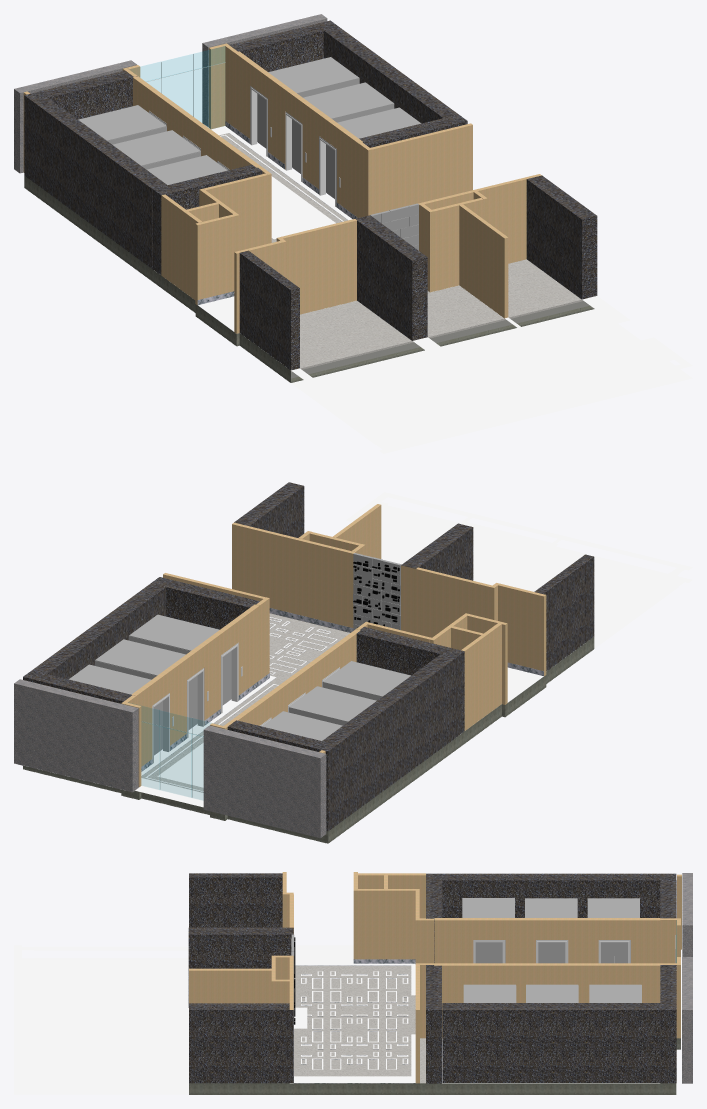
File: MGM Cotai Hotel Lift Lobby.gltf
3 views of the same model, one above another, from view 1: azimuth 30°, elevation 25°; view 2: azimuth 150°, elevation 25°; view 3: azimuth 270°, elevation 25° (orthographic). The views are drawn at different scales.
Parts seen in each view (by area): view 1: Floor plan Level 0, Floor Floors <449982 Floor-Grnd-Susp_65Scr-80Ins-100Blk-75PC, FamilyInstance Specialty Equipment Otis_Gen3_Premier_lift_13 (×6), Wall Walls <339339 Wall-Fnd_600Blk 2<, Wall Walls <352641 Wall-Fnd_200Blk 4<, Wall Walls <353166 Wall-Fnd_150Blk 5<, Wall Walls <343821 Wall-Fnd_600Blk 2<, Wall Walls <343152 Wall-Fnd_600Blk 2<, Wall Walls <437848 Wall-Fnd_150Blk 5<, Wall Walls <345370 Wall-Fnd_350Blk 2<, Wall Walls <340683 Wall-Fnd_600Blk 2<, Wall Walls <364521 Wall-Fnd_150Blk 5< (+19 smaller); view 2: Floor plan Level 0, FamilyInstance Specialty Equipment Otis_Gen3_Premier_lift_13 (×6), Wall Walls <339339 Wall-Fnd_600Blk 2<, Wall Walls <381742 Wall-Fnd_400Con_Footing 2<, Wall Walls <432224 Wall-Fnd_400Con_Footing 2<, Floor Floors <449982 Floor-Grnd-Susp_65Scr-80Ins-100Blk-75PC, Wall Walls <434053 Wall-Fnd_150Blk 5<, Wall Walls <352641 Wall-Fnd_200Blk 4<, Wall Walls <345370 Wall-Fnd_350Blk 2<, Wall Walls <340683 Wall-Fnd_600Blk 2<, Wall Walls <437848 Wall-Fnd_150Blk 5<, Wall Walls <339218 Wall-Fnd_600Blk 2< (+16 smaller); view 3: Floor plan Level 0, Floor Floors <449982 Floor-Grnd-Susp_65Scr-80Ins-100Blk-75PC, Wall Walls <340683 Wall-Fnd_600Blk 2<, FamilyInstance Specialty Equipment Otis_Gen3_Premier_lift_13 (×6), Wall Walls <343821 Wall-Fnd_600Blk 2<, Wall Walls <347849 Wall-Fnd_200Blk 4<, Wall Walls <339339 Wall-Fnd_600Blk 2<, Wall Walls <352641 Wall-Fnd_200Blk 4<, Wall Walls <345370 Wall-Fnd_350Blk 2<, Wall Walls <343152 Wall-Fnd_600Blk 2<, Wall Walls <350767 Wall-Fnd_150Blk 5<, Wall Walls <364521 Wall-Fnd_150Blk 5< (+17 smaller).
Part boxes in pixels (x1=…): Floor plan Level 0: x1=198, y1=124, x2=692, y2=453; Floor Floors <449982 Floor-Grnd-Susp_65Scr-80Ins-100Blk-75PC: x1=24, y1=133, x2=594, y2=382; FamilyInstance Specialty Equipment Otis_Gen3_Premier_lift_13 (×6): x1=78, y1=57, x2=421, y2=206; Wall Walls <339339 Wall-Fnd_600Blk 2<: x1=24, y1=91, x2=167, y2=269; Wall Walls <352641 Wall-Fnd_200Blk 4<: x1=234, y1=51, x2=362, y2=217; Wall Walls <353166 Wall-Fnd_150Blk 5<: x1=370, y1=123, x2=472, y2=214; Wall Walls <343821 Wall-Fnd_600Blk 2<: x1=526, y1=175, x2=597, y2=299; Wall Walls <343152 Wall-Fnd_600Blk 2<: x1=356, y1=215, x2=427, y2=340; Wall Walls <437848 Wall-Fnd_150Blk 5<: x1=281, y1=219, x2=356, y2=314; Wall Walls <345370 Wall-Fnd_350Blk 2<: x1=239, y1=250, x2=299, y2=370; Wall Walls <340683 Wall-Fnd_600Blk 2<: x1=324, y1=27, x2=458, y2=123; Wall Walls <364521 Wall-Fnd_150Blk 5<: x1=459, y1=204, x2=508, y2=318; Floor plan Level 0: x1=135, y1=492, x2=692, y2=807; FamilyInstance Specialty Equipment Otis_Gen3_Premier_lift_13 (×6): x1=69, y1=614, x2=410, y2=763; Wall Walls <339339 Wall-Fnd_600Blk 2<: x1=313, y1=654, x2=455, y2=831; Wall Walls <381742 Wall-Fnd_400Con_Footing 2<: x1=14, y1=679, x2=138, y2=792; Wall Walls <432224 Wall-Fnd_400Con_Footing 2<: x1=203, y1=725, x2=326, y2=838; Floor Floors <449982 Floor-Grnd-Susp_65Scr-80Ins-100Blk-75PC: x1=23, y1=613, x2=594, y2=843; Wall Walls <434053 Wall-Fnd_150Blk 5<: x1=232, y1=522, x2=355, y2=627; Wall Walls <352641 Wall-Fnd_200Blk 4<: x1=132, y1=604, x2=259, y2=766; Wall Walls <345370 Wall-Fnd_350Blk 2<: x1=534, y1=554, x2=594, y2=671; Wall Walls <340683 Wall-Fnd_600Blk 2<: x1=32, y1=583, x2=165, y2=679; Wall Walls <437848 Wall-Fnd_150Blk 5<: x1=416, y1=567, x2=491, y2=637; Wall Walls <339218 Wall-Fnd_600Blk 2<: x1=356, y1=626, x2=464, y2=737; Floor plan Level 0: x1=14, y1=945, x2=682, y2=1094; Floor Floors <449982 Floor-Grnd-Susp_65Scr-80Ins-100Blk-75PC: x1=189, y1=966, x2=680, y2=1094; Wall Walls <340683 Wall-Fnd_600Blk 2<: x1=442, y1=1003, x2=660, y2=1082; FamilyInstance Specialty Equipment Otis_Gen3_Premier_lift_13 (×6): x1=462, y1=898, x2=641, y2=1002; Wall Walls <343821 Wall-Fnd_600Blk 2<: x1=189, y1=1003, x2=289, y2=1083; Wall Walls <347849 Wall-Fnd_200Blk 4<: x1=434, y1=918, x2=660, y2=963; Wall Walls <339339 Wall-Fnd_600Blk 2<: x1=442, y1=873, x2=676, y2=917; Wall Walls <352641 Wall-Fnd_200Blk 4<: x1=434, y1=963, x2=660, y2=1038; Wall Walls <345370 Wall-Fnd_350Blk 2<: x1=189, y1=873, x2=282, y2=927; Wall Walls <343152 Wall-Fnd_600Blk 2<: x1=188, y1=927, x2=293, y2=1007; Wall Walls <350767 Wall-Fnd_150Blk 5<: x1=358, y1=889, x2=419, y2=959; Wall Walls <364521 Wall-Fnd_150Blk 5<: x1=189, y1=968, x2=271, y2=1003.
Size of the model in its own units: 12.1 by 3.47 by 25.16.
Materials: 18 (11 with a texture image).
